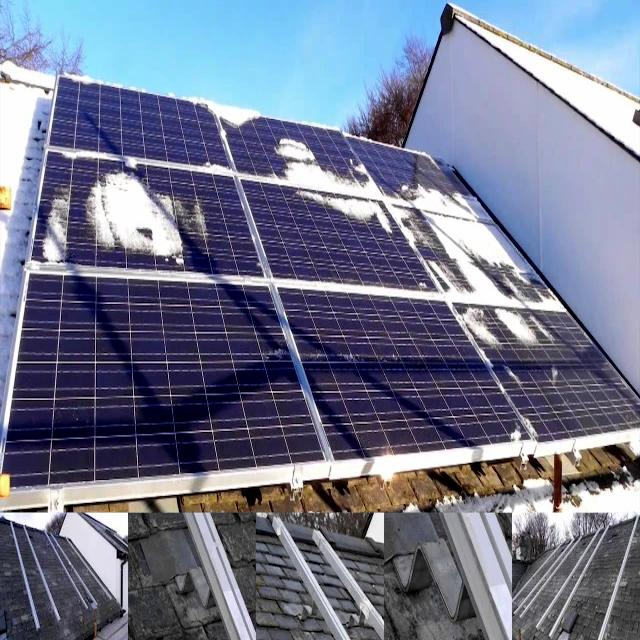panel: (82, 154, 192, 267), (275, 129, 379, 228), (442, 227, 525, 296), (464, 300, 547, 354), (398, 170, 480, 220), (40, 171, 77, 276), (196, 100, 261, 136), (502, 420, 550, 462)
